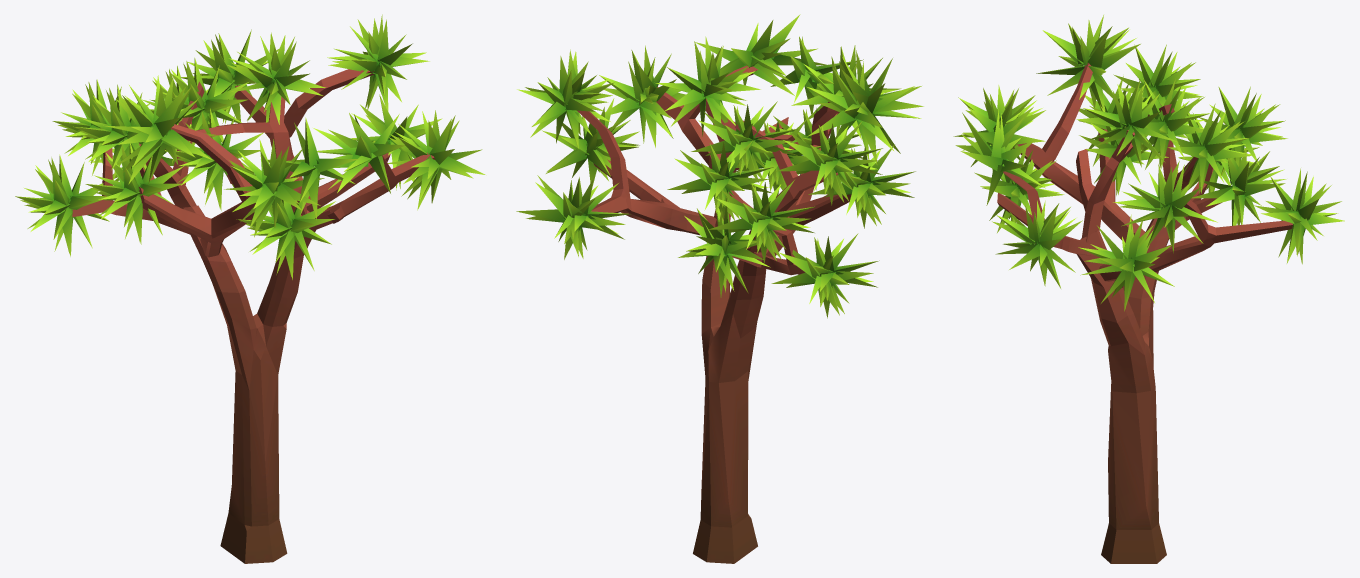
3 renders of one model, left to right at view 1: azimuth 30°, elevation 25°; view 2: azimuth 150°, elevation 25°; view 3: azimuth 270°, elevation 25°, orthographic. The views are drawn at different scales.
Parts seen in each view (by area): view 1: JoshuaTree2; view 2: JoshuaTree2; view 3: JoshuaTree2.
Part boxes in pixels (x1,y1,x2,y2): JoshuaTree2: [15, 14, 485, 563]; JoshuaTree2: [516, 14, 923, 563]; JoshuaTree2: [953, 15, 1344, 563].
Bounding box in the file's own units: 4.76 × 6.13 × 4.53.
1 material, 1 textured.
